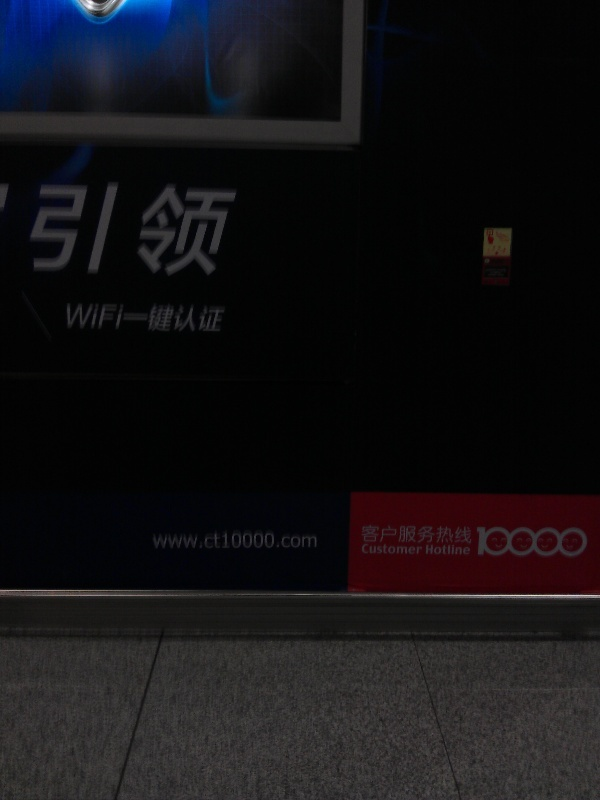text: (49, 182, 64, 279), (65, 182, 80, 279), (81, 182, 96, 279), (97, 182, 112, 279), (113, 182, 128, 279), (129, 182, 144, 279), (145, 182, 160, 279), (161, 182, 176, 279), (177, 182, 192, 279), (193, 182, 208, 279), (209, 182, 224, 279), (225, 182, 240, 279), (42, 182, 48, 279), (81, 301, 96, 335), (97, 301, 112, 335), (113, 301, 128, 335), (129, 301, 144, 335), (145, 301, 160, 335), (161, 301, 176, 335), (177, 301, 192, 335), (193, 301, 208, 335), (209, 301, 224, 335), (481, 525, 496, 557), (497, 525, 512, 557), (513, 525, 528, 557), (529, 525, 544, 557), (545, 525, 560, 557), (561, 525, 576, 557), (67, 301, 80, 335), (577, 525, 589, 557), (161, 531, 176, 551), (177, 531, 192, 551), (193, 531, 208, 551), (209, 531, 224, 551), (225, 531, 240, 551), (241, 531, 256, 551), (257, 531, 272, 551), (273, 531, 288, 551), (289, 531, 304, 551), (305, 531, 318, 551), (369, 526, 384, 543), (385, 526, 400, 543), (401, 526, 416, 543), (417, 526, 432, 543), (433, 526, 448, 543), (449, 526, 464, 543), (369, 544, 384, 555), (385, 544, 400, 555), (401, 544, 416, 555), (433, 545, 448, 556), (449, 545, 464, 556), (152, 531, 160, 551), (465, 526, 473, 543), (362, 526, 368, 543), (417, 544, 424, 555), (465, 545, 472, 556), (225, 301, 227, 335), (362, 544, 368, 555), (426, 545, 432, 556), (478, 525, 480, 557)
